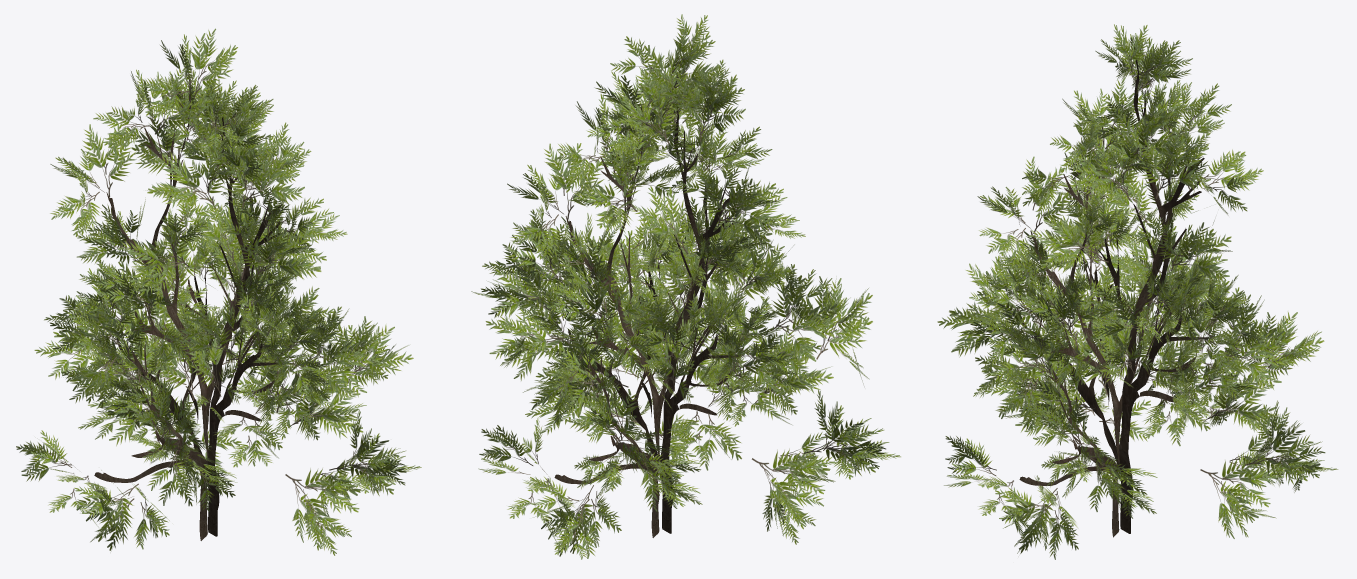
Rendered from tree-1.glb.
3 renders of one model, left to right at view 1: azimuth 30°, elevation 25°; view 2: azimuth 150°, elevation 25°; view 3: azimuth 270°, elevation 25°, orthographic. The views are drawn at different scales.
Parts seen in each view (by area): view 1: leaves, bark; view 2: leaves, bark; view 3: leaves, bark.
Part boxes in pixels (x1=…): leaves: x1=16, y1=28, x2=421, y2=555; bark: x1=94, y1=72, x2=285, y2=540; leaves: x1=471, y1=14, x2=900, y2=559; bark: x1=554, y1=105, x2=739, y2=537; leaves: x1=937, y1=24, x2=1338, y2=559; bark: x1=1017, y1=59, x2=1208, y2=537.
Size of the model in its own units: 0.7926 by 1 by 0.7297.
2 materials, 2 textured.
